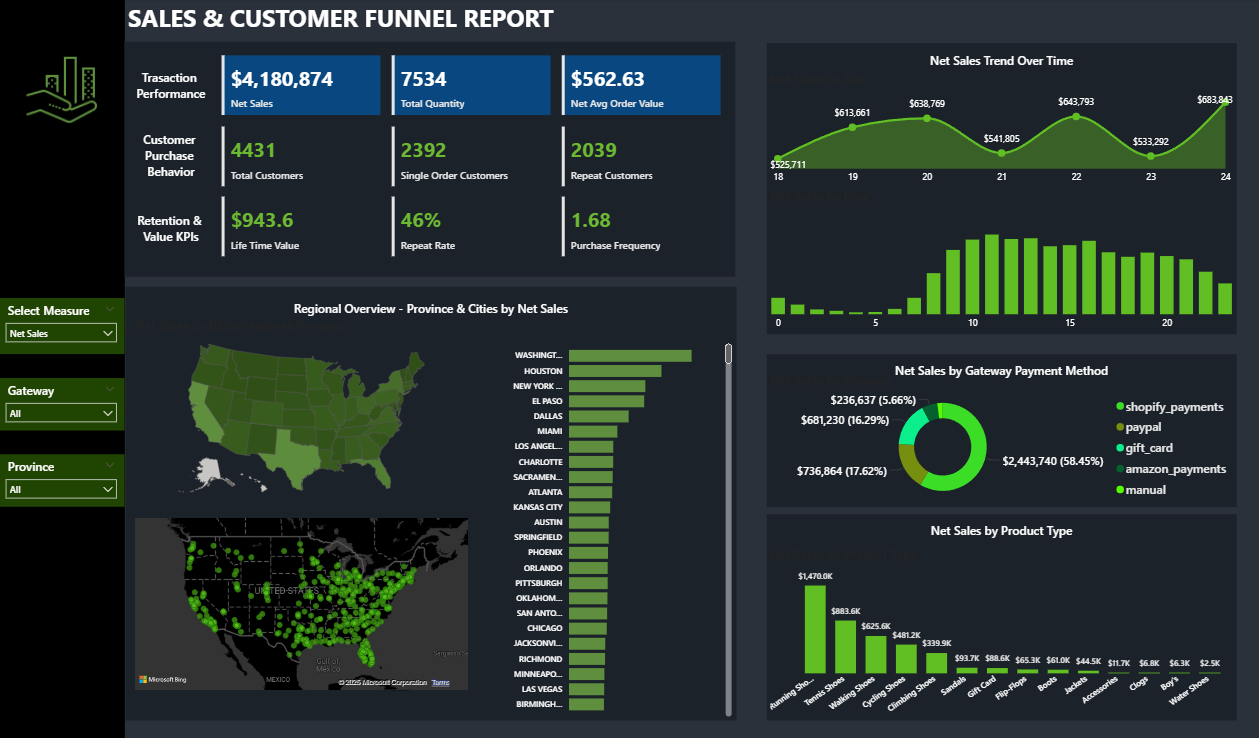

What the dashboard file says about the page in this screenshot:
{"tool":"powerbi","page":{"name":"Shopify Analysis","canvas":[1700,1000],"ordinal":0},"visuals":[{"type":"shape","box":[0,0,170,999],"z":0},{"type":"textbox","box":[169.2,0,754,58.6],"z":1000},{"type":"shape","box":[169.2,58.6,819.4,315],"z":2000},{"type":"cardVisual","fields":{"Data":["shopify_sales.Net Sales","shopify_sales.Total Quantity","shopify_sales.Net Avg Order Value"]},"box":[294.9,72.1,680.3,90.5],"z":3000},{"type":"card","fields":{"Values":["shopify_sales.Transaction Perf"]},"box":[169.2,82.1,125.7,70.4],"z":4000},{"type":"cardVisual","fields":{"Data":["shopify_sales.Total Customers","shopify_sales.Single Order Customers","shopify_sales.Repeat Customers"]},"box":[294.9,166.7,680.3,90.5],"z":5000},{"type":"card","fields":{"Values":["shopify_sales.Customer Purchase Behavior"]},"box":[169.2,160,125.7,93.8],"z":6000},{"type":"cardVisual","fields":{"Data":["shopify_sales.Life Time Value","shopify_sales.Repeat Rate","shopify_sales.Purchase Frequency"]},"box":[294.9,261.4,680.3,90.5],"z":7000},{"type":"card","fields":{"Values":["shopify_sales.Retention & Value KPIs"]},"box":[169.2,261.4,125.7,93.8],"z":8000},{"type":"shape","box":[170.9,387.1,819.4,581.4],"z":9000},{"type":"shapeMap","fields":{"Value":["shopify_sales.Total Customers"],"Category":["shopify_sales.Billing Address Province"]},"box":[179.3,429,455.8,249.7],"z":10000},{"type":"slicer","fields":{"Values":["Select Measure.Select Measure"]},"box":[0,402.1,169.2,75.4],"z":11000},{"type":"map","fields":{"Category":["shopify_sales.Location"]},"box":[179.3,692,455.8,241.3],"z":12000},{"type":"clusteredBarChart","fields":{"Y":["shopify_sales.Total Customers"],"Category":["shopify_sales.CITY"]},"box":[673.6,450.7,315,517.8],"z":13000},{"type":"card","fields":{"Values":["shopify_sales.Map Title"]},"box":[316.7,402.1,527.8,33.5],"z":14000},{"type":"shape","box":[1030.5,60.3,630,390.4],"z":15000},{"type":"areaChart","fields":{"Y":["shopify_sales.Total Customers"],"Category":["shopify_sales.Invoice Date.Variation.Date Hierarchy.Day"]},"box":[1030.5,98.9,630,159.2],"z":16000},{"type":"clusteredColumnChart","fields":{"Y":["shopify_sales.Total Customers"],"Category":["shopify_sales.Hour"]},"box":[1030.5,256.4,630,197.7],"z":17000},{"type":"card","fields":{"Values":["shopify_sales.Trend Title"]},"box":[1204.8,72.1,281.5,26.8],"z":18000},{"type":"shape","box":[1030.5,477.5,630,205],"z":19000},{"type":"donutChart","fields":{"Y":["shopify_sales.Total Customers"],"Category":["shopify_sales.Gateway"]},"box":[1030.5,502.7,630,179.3],"z":20000},{"type":"card","fields":{"Values":["shopify_sales.Gateway Title"]},"box":[1151.1,487.6,388.7,28.5],"z":21000},{"type":"shape","box":[1030.5,692,630,276.5],"z":22000},{"type":"columnChart","fields":{"Y":["shopify_sales.Total Customers"],"Category":["shopify_sales.Product Type"]},"box":[1030.5,735.6,630,232.9],"z":23000},{"type":"card","fields":{"Values":["shopify_sales.Product Title"]},"box":[1142.8,697.1,405.5,38.5],"z":24000},{"type":"slicer","fields":{"Values":["shopify_sales.Gateway"]},"box":[0,509.4,169.2,70.4],"z":26000},{"type":"slicer","fields":{"Values":["shopify_sales.Billing Address Province"]},"box":[0,611.6,169.2,70.4],"z":27000},{"type":"image","box":[23.5,60.3,124,125.7],"z":27001}]}

Visuals, with their boxes in screenshot pixels (x1, y1, x2, y2), scaled from the page's 1700x1000 canvas onto the 1259x738 screenshot:
shape: pyautogui.locateOnScreen(0, 0, 126, 737)
textbox: pyautogui.locateOnScreen(125, 0, 684, 43)
shape: pyautogui.locateOnScreen(125, 43, 732, 276)
cardVisual - shopify_sales.Net Sales x shopify_sales.Total Quantity: pyautogui.locateOnScreen(218, 53, 722, 120)
card - shopify_sales.Transaction Perf: pyautogui.locateOnScreen(125, 61, 218, 113)
cardVisual - shopify_sales.Total Customers x shopify_sales.Single Order Customers: pyautogui.locateOnScreen(218, 123, 722, 190)
card - shopify_sales.Customer Purchase Behavior: pyautogui.locateOnScreen(125, 118, 218, 187)
cardVisual - shopify_sales.Life Time Value x shopify_sales.Repeat Rate: pyautogui.locateOnScreen(218, 193, 722, 260)
card - shopify_sales.Retention & Value KPIs: pyautogui.locateOnScreen(125, 193, 218, 262)
shape: pyautogui.locateOnScreen(127, 286, 733, 715)
shapeMap - shopify_sales.Total Customers x shopify_sales.Billing Address Province: pyautogui.locateOnScreen(133, 317, 470, 501)
slicer - Select Measure.Select Measure: pyautogui.locateOnScreen(0, 297, 125, 352)
map - shopify_sales.Location: pyautogui.locateOnScreen(133, 511, 470, 689)
clusteredBarChart - shopify_sales.Total Customers x shopify_sales.CITY: pyautogui.locateOnScreen(499, 333, 732, 715)
card - shopify_sales.Map Title: pyautogui.locateOnScreen(235, 297, 625, 321)
shape: pyautogui.locateOnScreen(763, 45, 1230, 333)
areaChart - shopify_sales.Total Customers x shopify_sales.Invoice Date.Variation.Date Hierarchy.Day: pyautogui.locateOnScreen(763, 73, 1230, 190)
clusteredColumnChart - shopify_sales.Total Customers x shopify_sales.Hour: pyautogui.locateOnScreen(763, 189, 1230, 335)
card - shopify_sales.Trend Title: pyautogui.locateOnScreen(892, 53, 1101, 73)
shape: pyautogui.locateOnScreen(763, 352, 1230, 504)
donutChart - shopify_sales.Total Customers x shopify_sales.Gateway: pyautogui.locateOnScreen(763, 371, 1230, 503)
card - shopify_sales.Gateway Title: pyautogui.locateOnScreen(852, 360, 1140, 381)
shape: pyautogui.locateOnScreen(763, 511, 1230, 715)
columnChart - shopify_sales.Total Customers x shopify_sales.Product Type: pyautogui.locateOnScreen(763, 543, 1230, 715)
card - shopify_sales.Product Title: pyautogui.locateOnScreen(846, 514, 1147, 543)
slicer - shopify_sales.Gateway: pyautogui.locateOnScreen(0, 376, 125, 428)
slicer - shopify_sales.Billing Address Province: pyautogui.locateOnScreen(0, 451, 125, 503)
image: pyautogui.locateOnScreen(17, 45, 109, 137)
